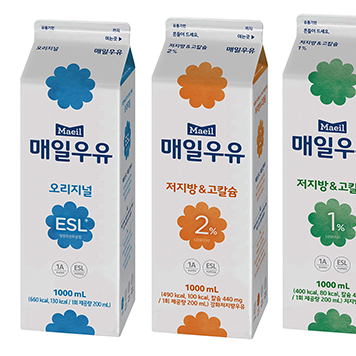milk: (149, 17, 268, 340), (19, 21, 136, 337), (282, 14, 355, 337)
